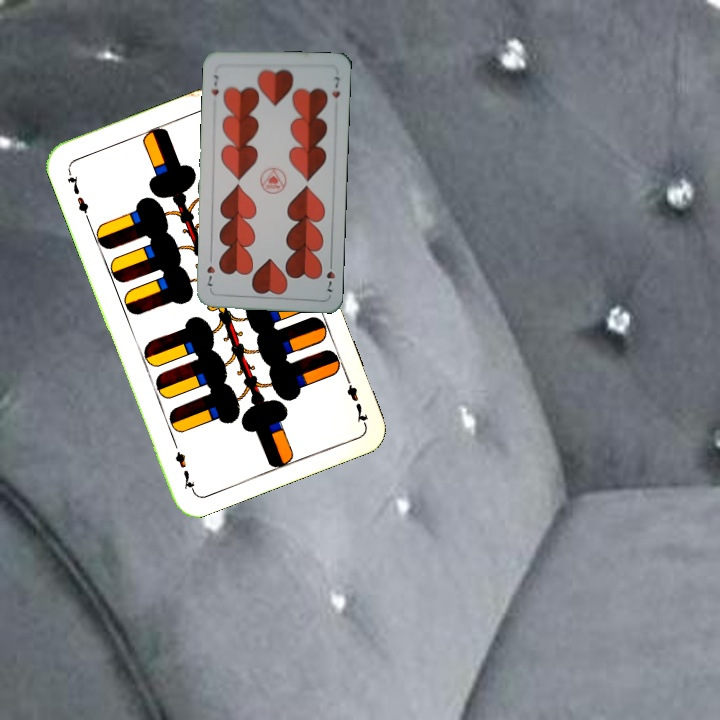E7: (340, 370, 371, 427), (63, 165, 92, 222)
H7: (322, 256, 338, 295), (207, 71, 221, 98)
